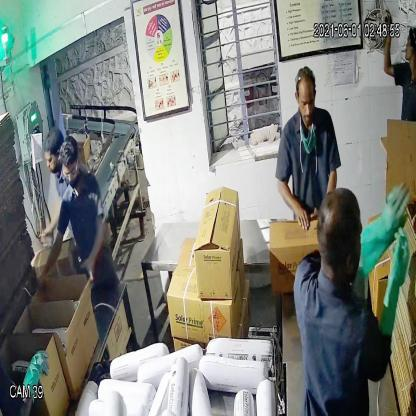goggles: (61, 160, 80, 184)
no_goggles: (291, 89, 322, 114)
